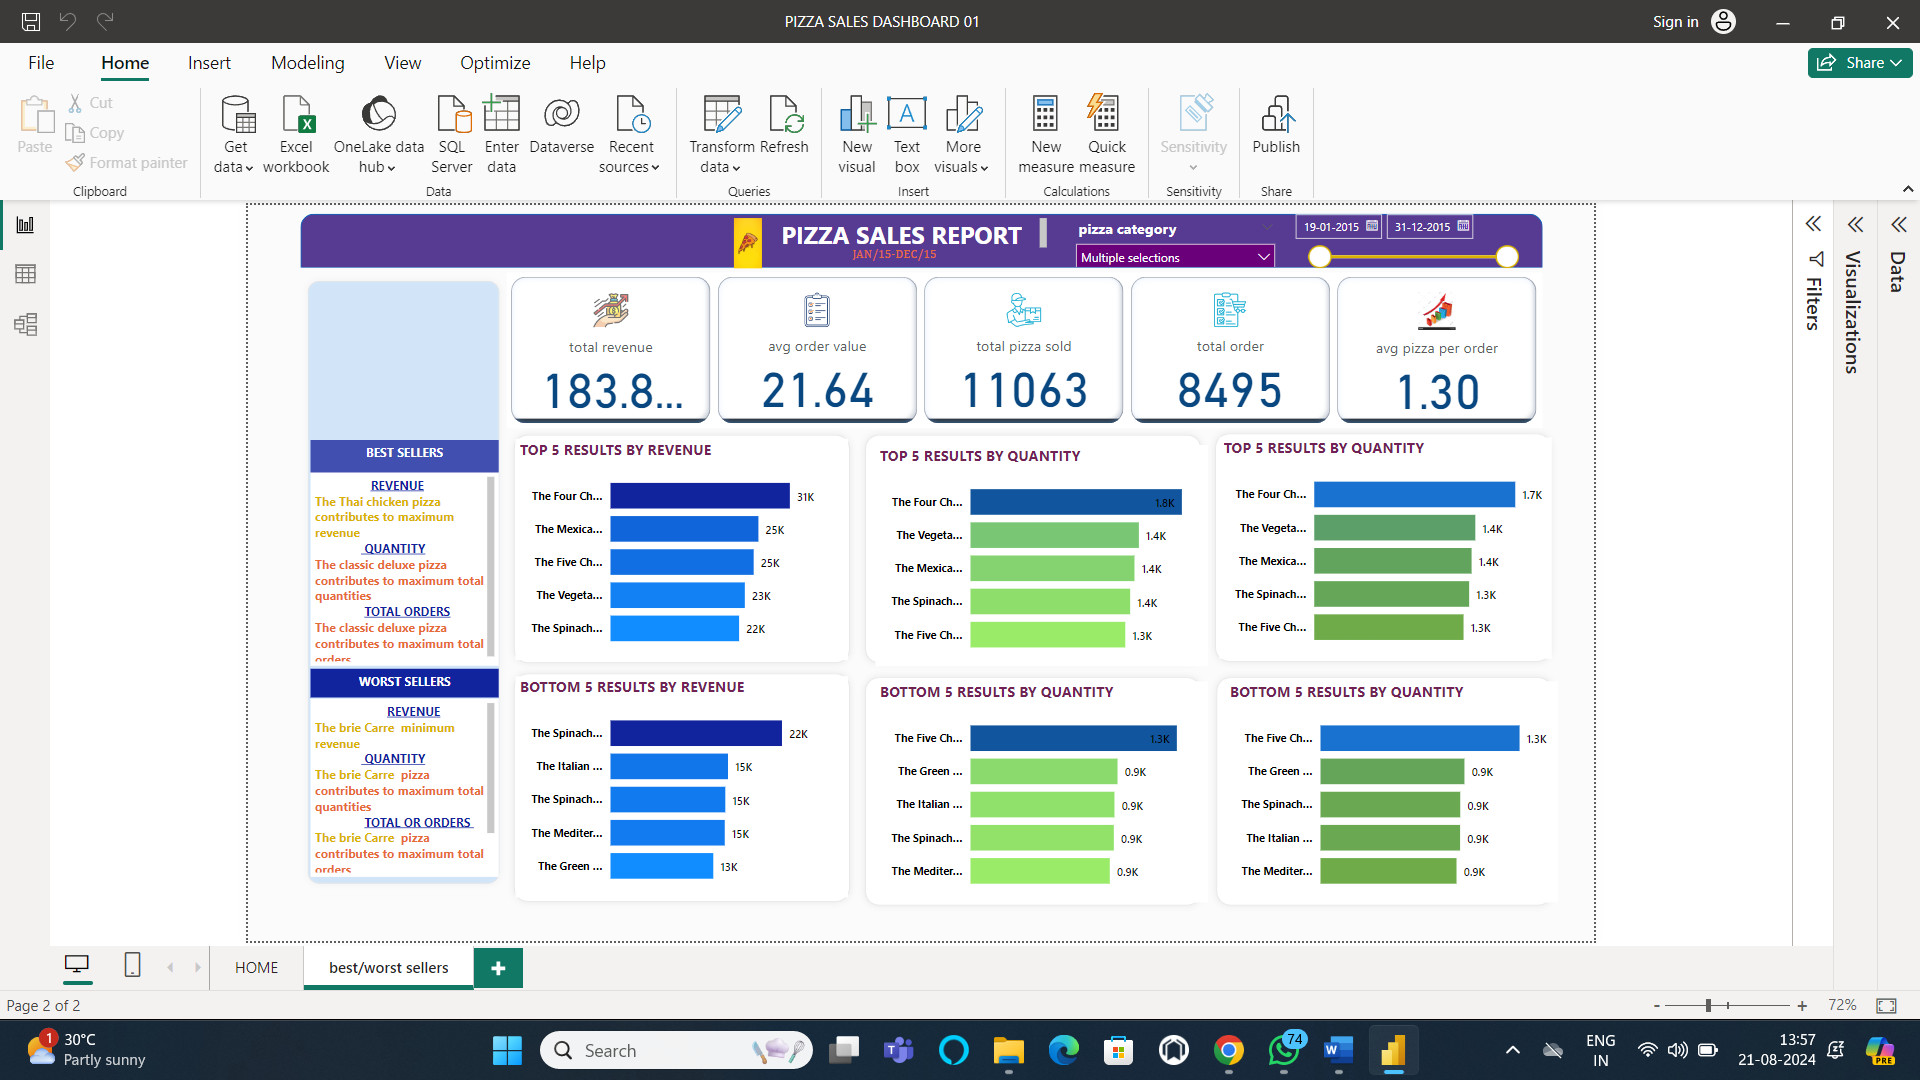

The page's visual inventory and layout, read from the dashboard file:
{"tool":"powerbi","page":{"name":"best/worst sellers ","canvas":[1500,820],"ordinal":1},"visuals":[{"type":"cardVisual","fields":{"Data":["pizza_sales (2).total revenue","pizza_sales (2).avg order value","pizza_sales (2).total pizza sold","pizza_sales (2).total order","pizza_sales (2).avg pizza per order"]},"box":[288.7,74.6,1153.5,173.2],"z":0},{"type":"shape","box":[58.9,9.6,1383.6,60.3],"z":1000},{"type":"textbox","box":[589,9.6,305.5,43.8],"z":2000},{"type":"textbox","box":[668.5,39.7,138.4,30.1],"z":3000},{"type":"image","box":[532.9,9.6,46.6,65.8],"z":4000},{"type":"shape","box":[288.7,247.9,390.1,270.4],"z":5000},{"type":"shape","box":[59.2,76.1,229.6,687.3],"z":6000},{"type":"textbox","box":[69,262,209.9,36.6],"z":7000},{"type":"textbox","box":[69,298.6,209.9,215.5],"z":8000},{"type":"textbox","box":[69,516.9,209.9,32.4],"z":9000},{"type":"textbox","box":[69,549.3,209.9,198.6],"z":10000},{"type":"slicer","fields":{"Values":["pizza_sales (2).pizza_category"]},"box":[911.3,9.9,242.3,59.2],"z":11000},{"type":"slicer","fields":{"Values":["pizza_sales (2).order_date"]},"box":[1153.5,0,269,76.1],"z":12000},{"type":"shape","box":[678.9,247.9,390.1,270.4],"z":13000},{"type":"shape","box":[1069,246.5,390.1,270.4],"z":14000},{"type":"shape","box":[288.7,514.1,390.1,270.4],"z":15000},{"type":"shape","box":[678.9,518.3,390.1,270.4],"z":16000},{"type":"shape","box":[1070.4,518.3,390.1,270.4],"z":17000},{"type":"barChart","title":"TOP 5 RESULTS BY REVENUE","fields":{"Category":["pizza_sales (2).pizza_name"],"Y":["pizza_sales (2).total revenue"]},"box":[298.6,260.6,370.4,246.5],"z":18000},{"type":"barChart","title":"BOTTOM 5 RESULTS BY REVENUE","fields":{"Category":["pizza_sales (2).pizza_name"],"Y":["pizza_sales (2).total revenue"]},"box":[298.6,525.4,370.4,246.5],"z":19000},{"type":"barChart","title":"TOP 5 RESULTS BY QUANTITY","fields":{"Category":["pizza_sales (2).pizza_name"],"Y":["pizza_sales (2).total pizza sold"]},"box":[698.6,267.6,370.4,246.5],"z":20000},{"type":"barChart","title":"BOTTOM  5 RESULTS BY QUANTITY","fields":{"Category":["pizza_sales (2).pizza_name"],"Y":["pizza_sales (2).total pizza sold"]},"box":[698.6,531,370.4,246.5],"z":21000},{"type":"barChart","title":"TOP 5 RESULTS BY QUANTITY","fields":{"Category":["pizza_sales (2).pizza_name"],"Y":["pizza_sales (2).total order"]},"box":[1081.7,259.2,370.4,246.5],"z":22000},{"type":"barChart","title":"BOTTOM  5 RESULTS BY QUANTITY","fields":{"Category":["pizza_sales (2).pizza_name"],"Y":["pizza_sales (2).total order"]},"box":[1088.7,531,370.4,246.5],"z":23000}]}

Visuals, with their boxes on the page's 1500x820 design canvas (x1, y1, x2, y2). These are canvas units, not pixel positions in the 1920x1080 screenshot, which may show the page scaled, cropped or inside an application window:
cardVisual - pizza_sales (2).total revenue x pizza_sales (2).avg order value: box=[289, 75, 1442, 248]
shape: box=[59, 10, 1442, 70]
textbox: box=[589, 10, 894, 53]
textbox: box=[668, 40, 807, 70]
image: box=[533, 10, 580, 75]
shape: box=[289, 248, 679, 518]
shape: box=[59, 76, 289, 763]
textbox: box=[69, 262, 279, 299]
textbox: box=[69, 299, 279, 514]
textbox: box=[69, 517, 279, 549]
textbox: box=[69, 549, 279, 748]
slicer - pizza_sales (2).pizza_category: box=[911, 10, 1154, 69]
slicer - pizza_sales (2).order_date: box=[1154, 0, 1422, 76]
shape: box=[679, 248, 1069, 518]
shape: box=[1069, 246, 1459, 517]
shape: box=[289, 514, 679, 784]
shape: box=[679, 518, 1069, 789]
shape: box=[1070, 518, 1460, 789]
"TOP 5 RESULTS BY REVENUE" barChart: box=[299, 261, 669, 507]
"BOTTOM 5 RESULTS BY REVENUE" barChart: box=[299, 525, 669, 772]
"TOP 5 RESULTS BY QUANTITY" barChart: box=[699, 268, 1069, 514]
"BOTTOM  5 RESULTS BY QUANTITY" barChart: box=[699, 531, 1069, 778]
"TOP 5 RESULTS BY QUANTITY" barChart: box=[1082, 259, 1452, 506]
"BOTTOM  5 RESULTS BY QUANTITY" barChart: box=[1089, 531, 1459, 778]
